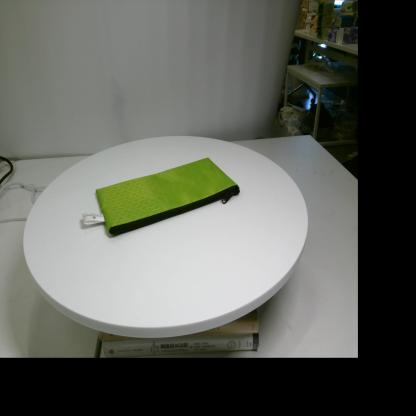Stationery: (82, 158, 240, 235)
